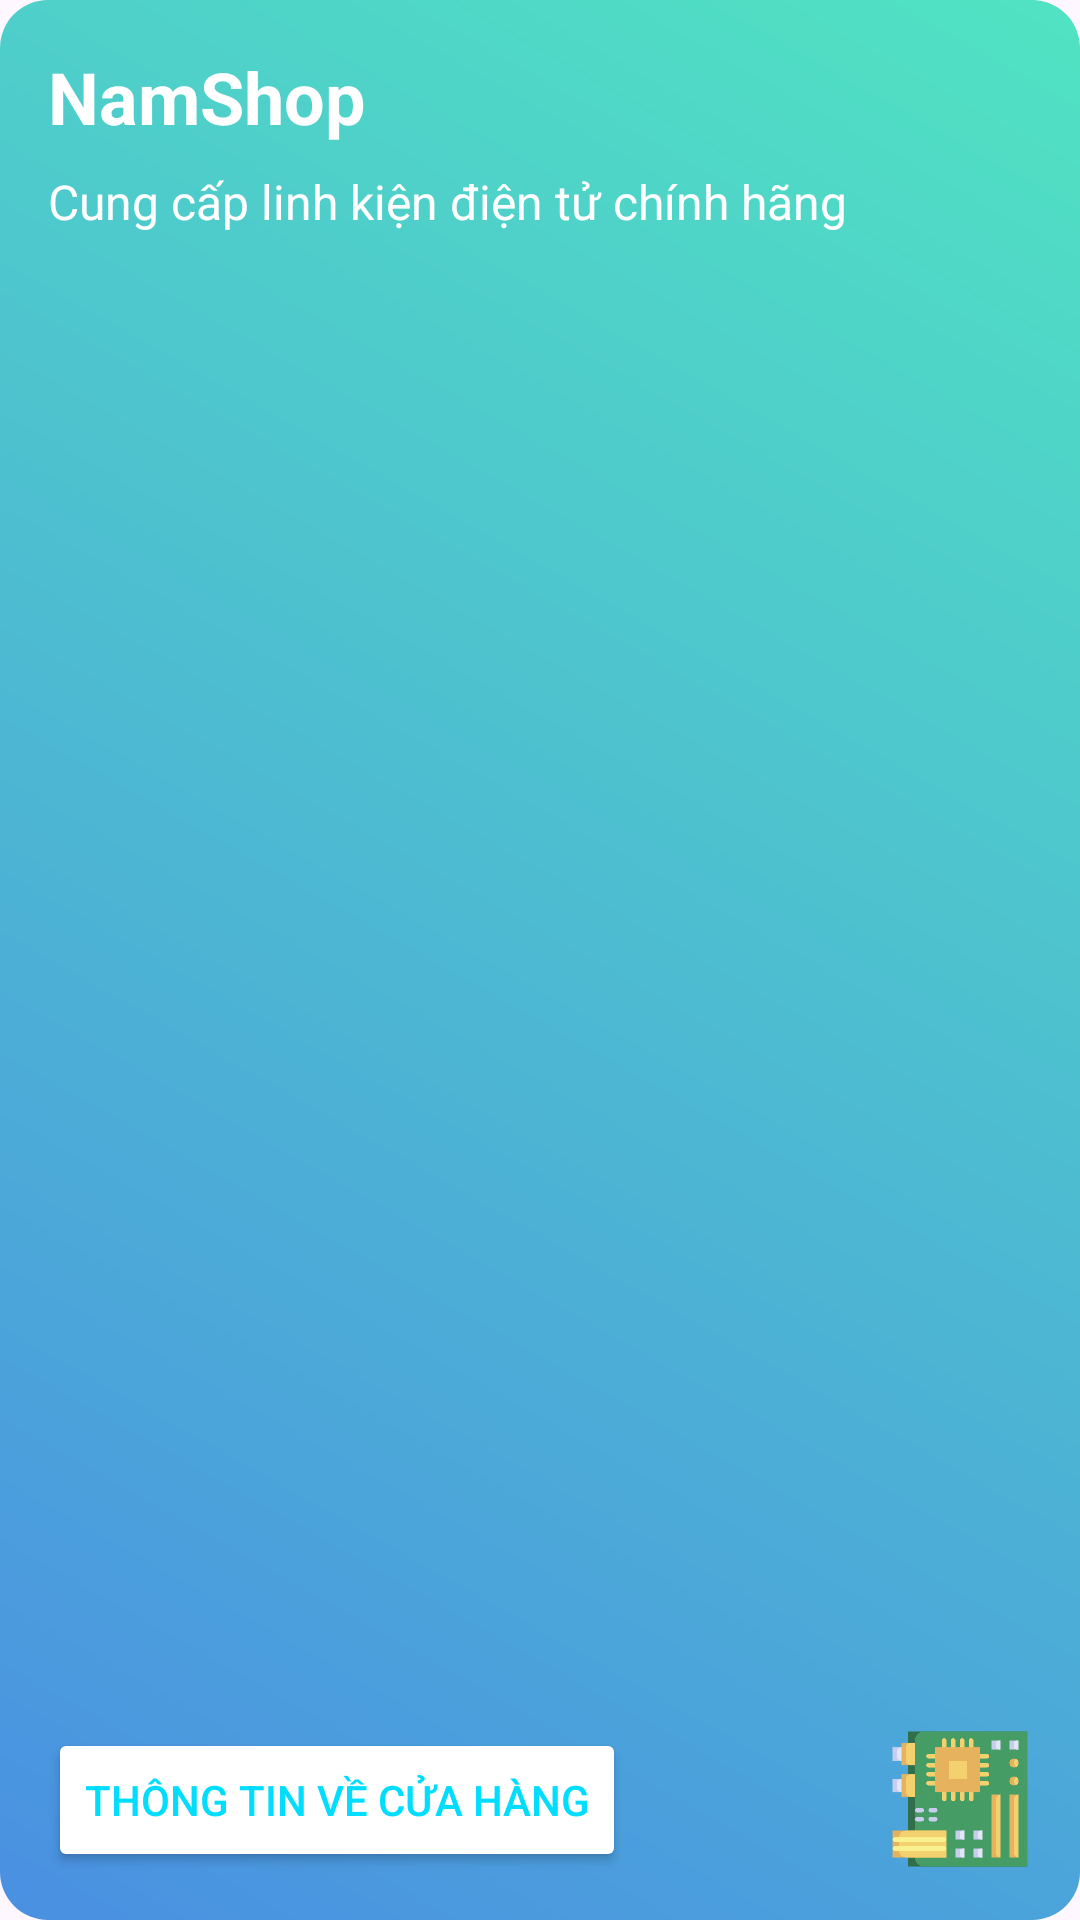

Screen size 1080 × 1920. Icon name, then its box in pixels as bbox=(x1, y1, x2, y2):
motherboard: bbox=(892, 1731, 1028, 1867)
